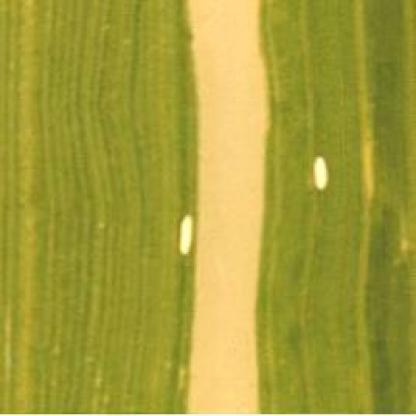whorl-maggot: (176, 210, 198, 262), (312, 152, 332, 196)
